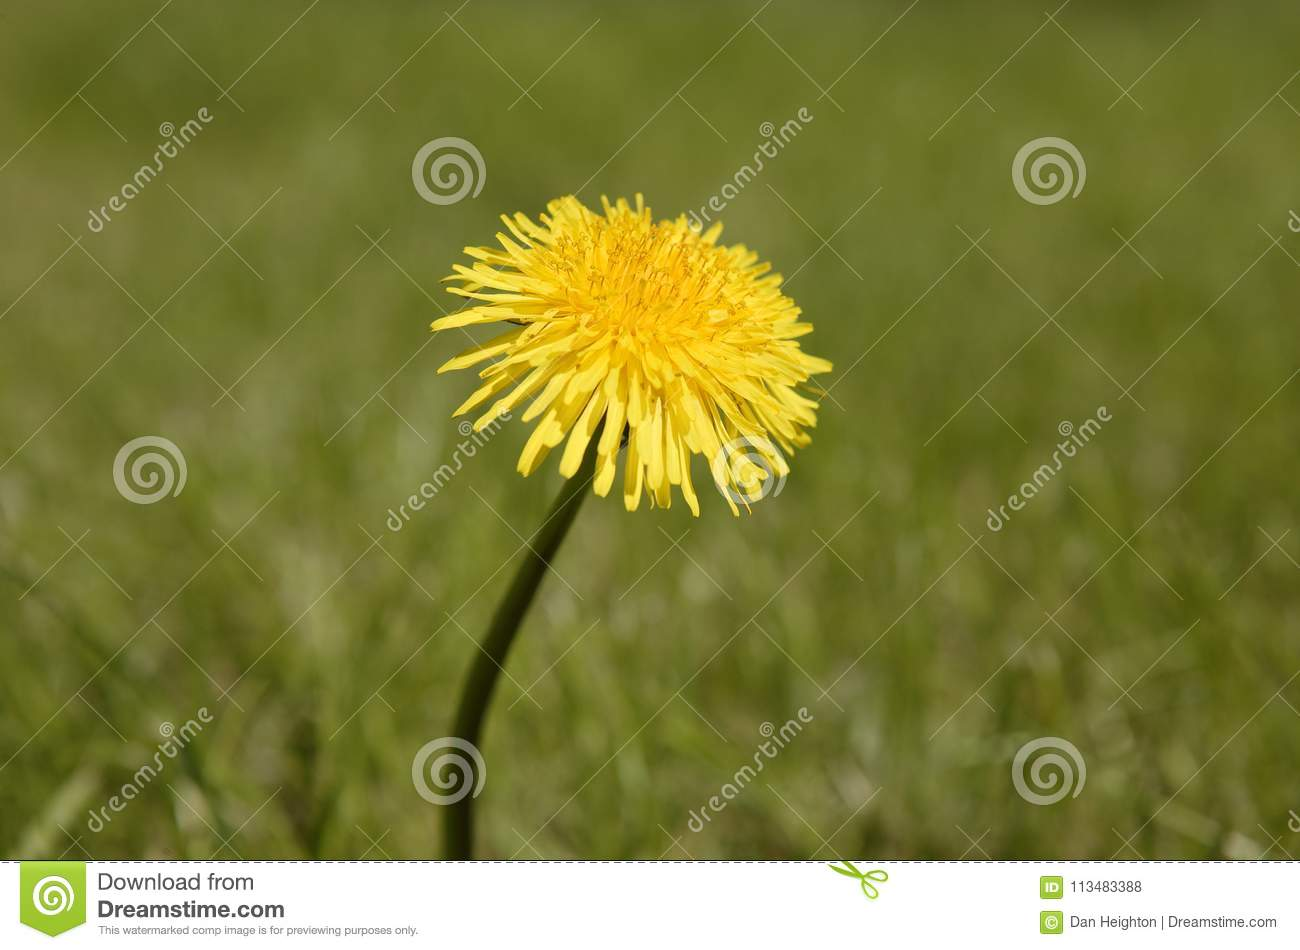dandelion: (442, 212, 788, 535)
